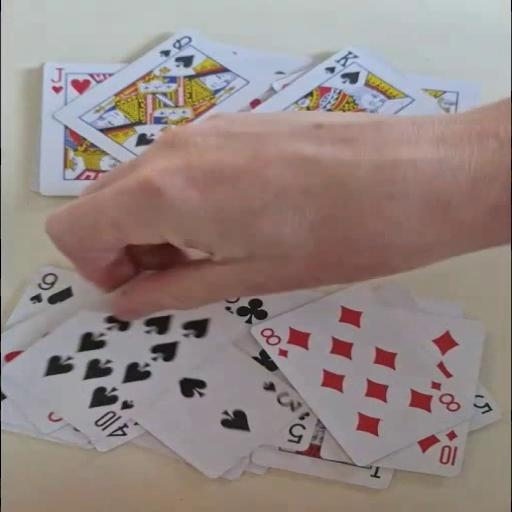10: (90, 397, 137, 433), (436, 428, 461, 468)
8: (256, 324, 291, 360), (427, 378, 463, 413)
9: (26, 269, 61, 306)
J: (48, 65, 66, 96)
K: (320, 48, 361, 75)
Q: (155, 33, 194, 59)
